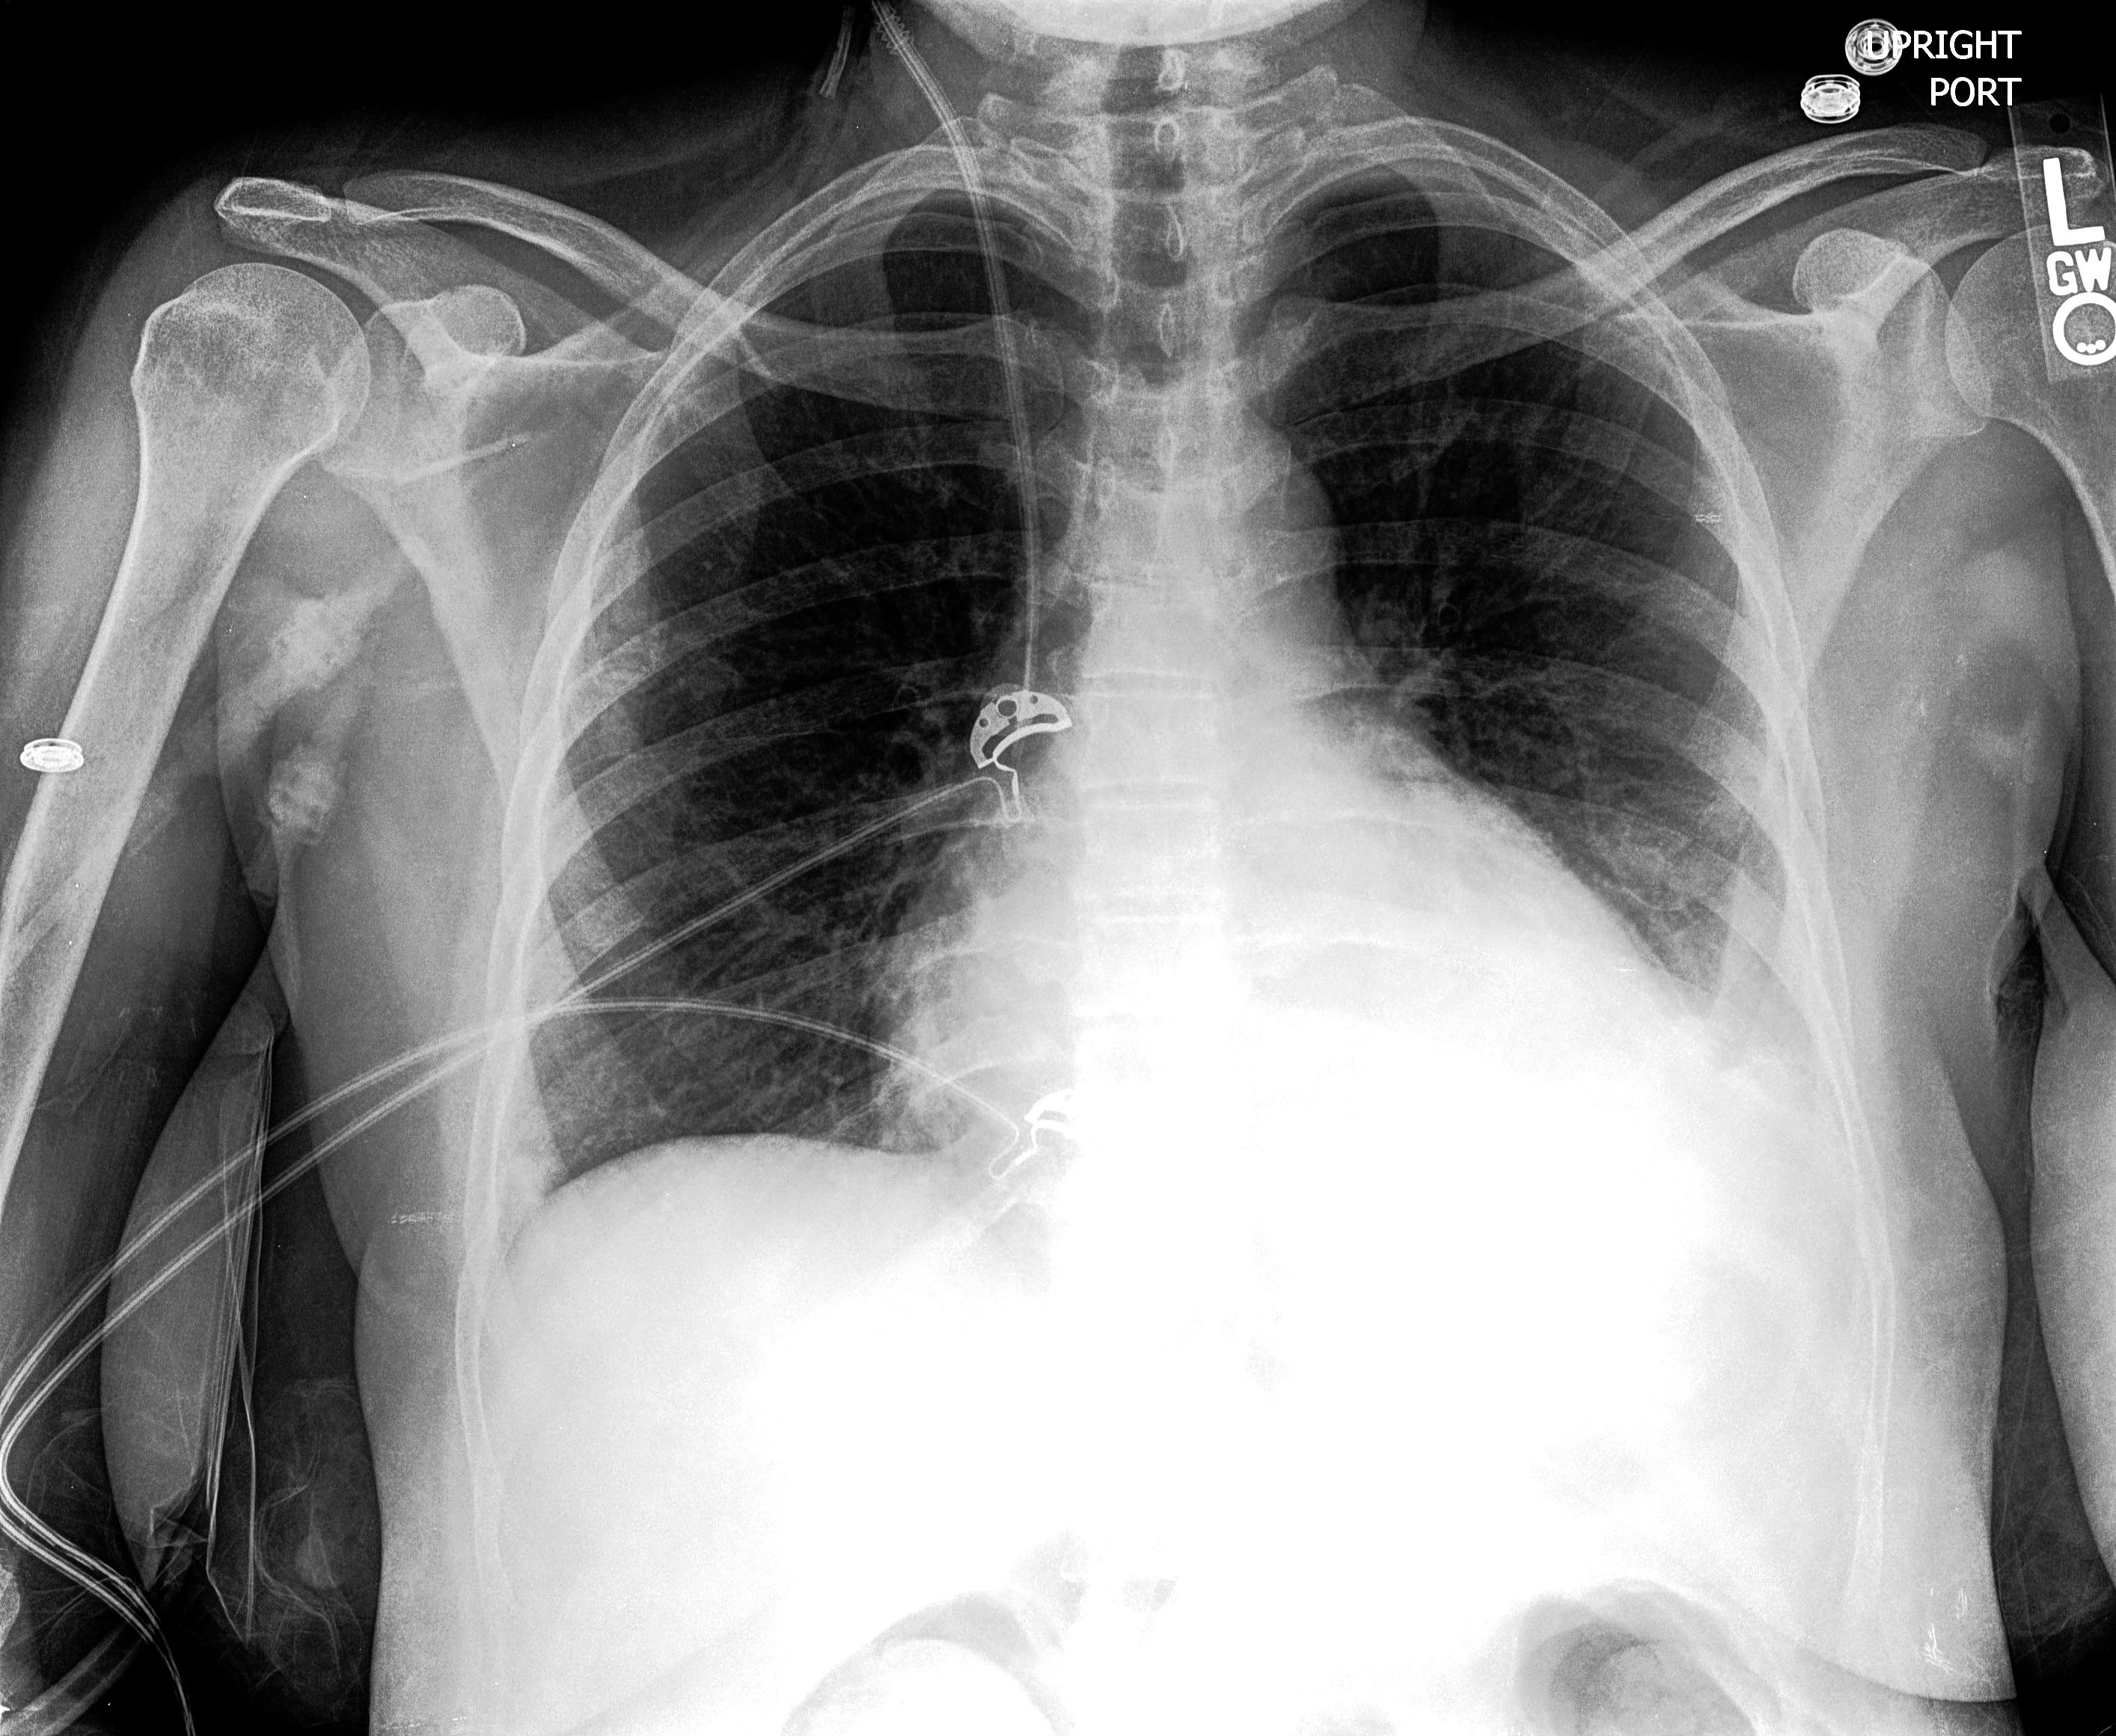Pleural Effusion: (1503, 949, 1924, 1365)
